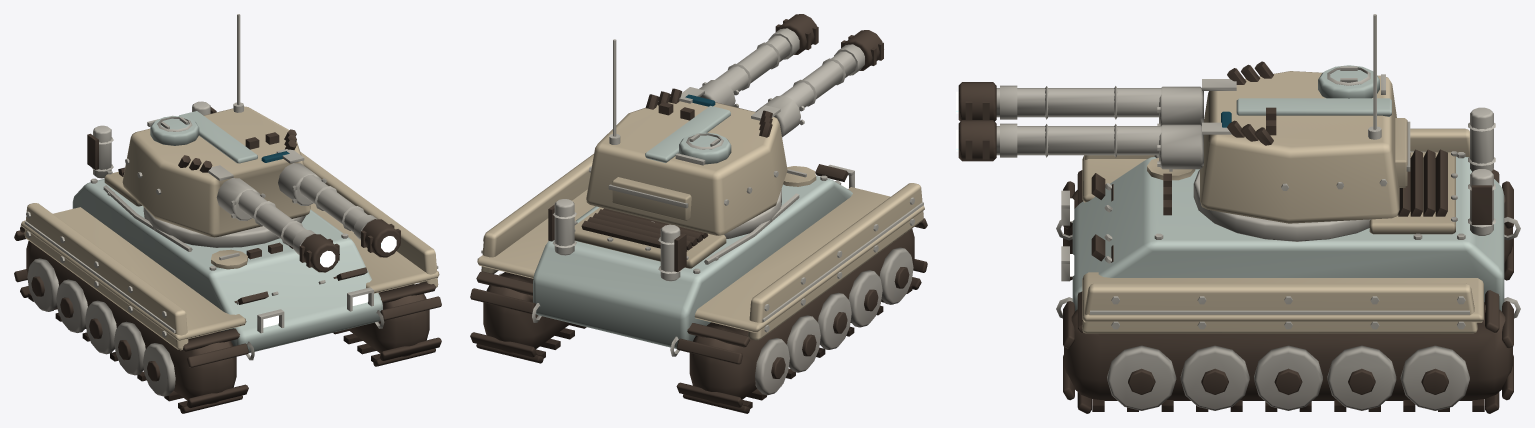
File: breaker.glb
3 views of the same model, side by side, from view 1: azimuth 30°, elevation 25°; view 2: azimuth 150°, elevation 25°; view 3: azimuth 270°, elevation 25° (orthographic). The views are drawn at different scales.
Parts seen in each view (by area): view 1: Armor, Hull, Tracks, Turret_head, Cannon, Wheels, Steel, Turret_head.001, Muzzle, Turret_head.003, Deck, Turret_head.004 (+1 smaller); view 2: Armor, Hull, Turret_head, Tracks, Wheels, Cannon, Steel, Deck, Turret_head.001, Turret_head.003, Muzzle, Turret_head.004; view 3: Hull, Armor, Tracks, Turret_head, Wheels, Cannon, Steel, Deck, Turret_head.001, Muzzle, Turret_head.003, Turret_head.004.
Boxes of the visible parts, x1,y1,x2,y2 form: Armor: [20, 152, 439, 350]; Hull: [72, 178, 382, 353]; Tracks: [14, 226, 441, 413]; Turret_head: [122, 106, 310, 237]; Cannon: [216, 163, 377, 254]; Wheels: [27, 258, 414, 396]; Steel: [24, 101, 438, 360]; Turret_head.001: [150, 111, 257, 163]; Muzzle: [299, 219, 400, 272]; Turret_head.003: [125, 14, 304, 194]; Deck: [87, 107, 367, 304]; Turret_head.004: [178, 129, 296, 172]; Armor: [477, 154, 924, 340]; Hull: [533, 176, 852, 348]; Turret_head: [586, 101, 787, 235]; Tracks: [470, 218, 927, 413]; Wheels: [499, 247, 913, 395]; Cannon: [699, 28, 864, 137]; Steel: [481, 164, 923, 356]; Deck: [548, 164, 848, 272]; Turret_head.001: [645, 105, 731, 164]; Turret_head.003: [589, 39, 780, 208]; Muzzle: [775, 14, 883, 70]; Turret_head.004: [645, 88, 772, 137]; Hull: [1072, 156, 1504, 311]; Armor: [1082, 128, 1483, 333]; Tracks: [1063, 169, 1513, 413]; Turret_head: [1200, 71, 1407, 223]; Wheels: [1107, 345, 1469, 410]; Cannon: [996, 85, 1203, 169]; Steel: [1056, 107, 1520, 329]; Deck: [1091, 149, 1492, 262]; Turret_head.001: [1236, 65, 1391, 116]; Muzzle: [958, 82, 996, 161]; Turret_head.003: [1202, 14, 1410, 190]; Turret_head.004: [1227, 61, 1276, 145].
Bounding box in the file's own units: 2.28 × 2.23 × 3.27.
